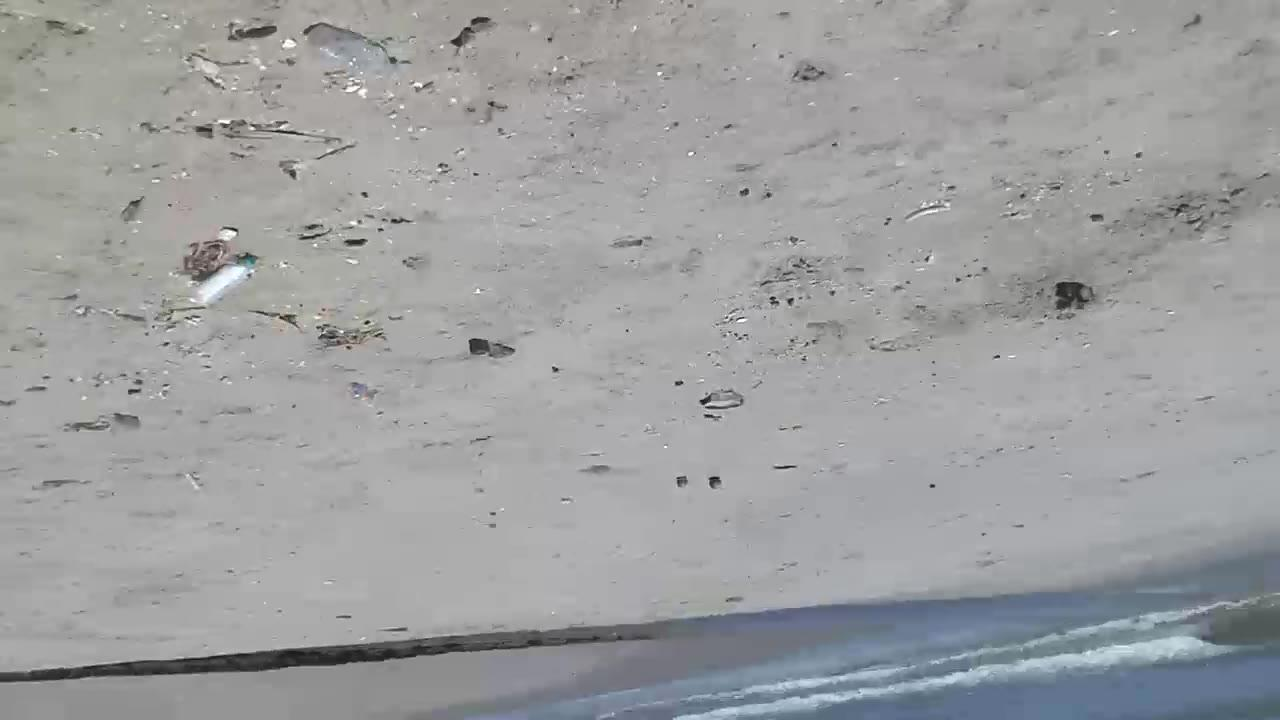large collection of objects: (190, 256, 260, 308), (696, 388, 744, 418)
obj: (302, 23, 392, 78)
sand/background: (529, 539, 1280, 719)
